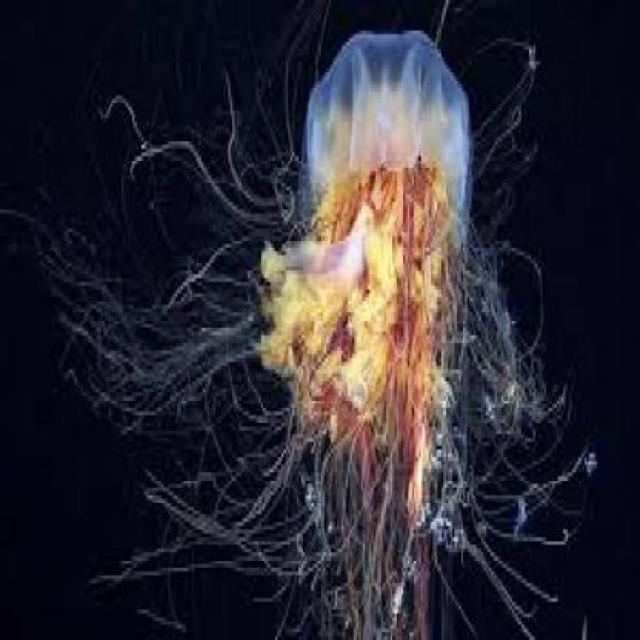Jellyfish: (228, 15, 536, 614)
